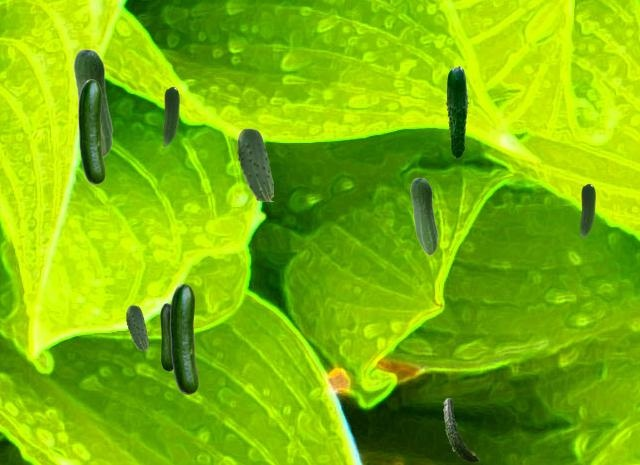cucumber: (73, 48, 112, 157), (170, 284, 197, 393), (78, 79, 104, 183), (237, 128, 272, 200), (443, 398, 478, 461), (410, 177, 437, 254), (446, 66, 467, 157), (126, 305, 147, 349), (163, 87, 178, 145), (160, 303, 172, 370), (580, 184, 594, 237)
